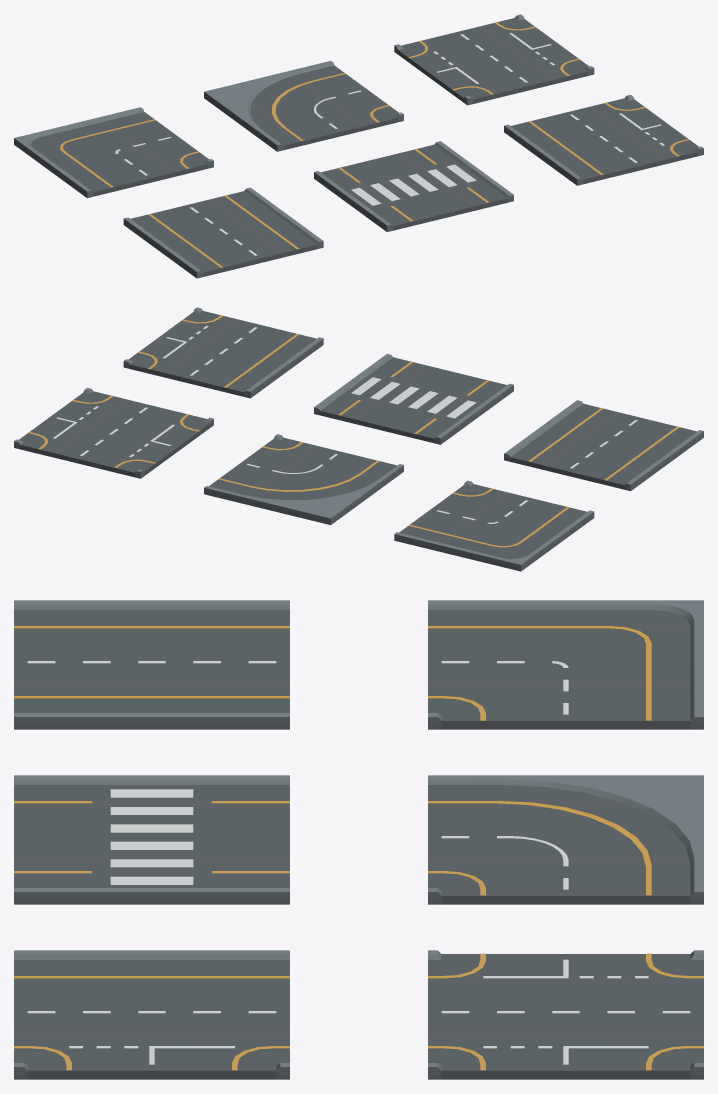
File: Road Bits-transformed.glb
3 views of the same model, one above another, from view 1: azimuth 30°, elevation 25°; view 2: azimuth 150°, elevation 25°; view 3: azimuth 270°, elevation 25° (orthographic). The views are drawn at different scales.
Parts seen in each view (by area): view 1: road_corner; view 2: road_corner; view 3: road_corner.
Boxes of the visible parts, x1,y1,x2,y2 form: road_corner: [14, 14, 703, 278]; road_corner: [14, 307, 703, 571]; road_corner: [14, 600, 703, 1079].
Size of the model in its own units: 8 by 0.1001 by 5.
1 material, 1 textured.
